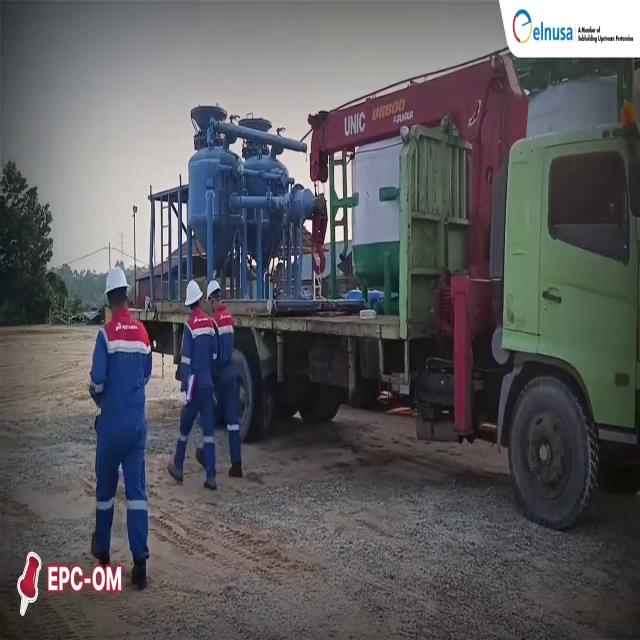Hardhat: (103, 265, 129, 297), (184, 281, 202, 305), (206, 278, 224, 302)
Overall Suit: (89, 312, 153, 556), (173, 310, 217, 470), (210, 306, 241, 464)
Safety Boots: (130, 548, 148, 592), (90, 537, 110, 570), (168, 456, 184, 483), (204, 469, 217, 492), (194, 443, 206, 467), (228, 461, 242, 478)
